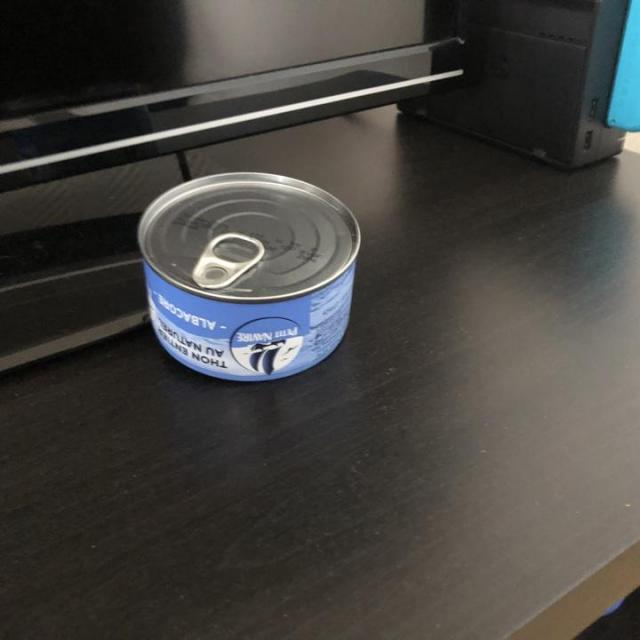metal-can: (137, 167, 365, 385)
